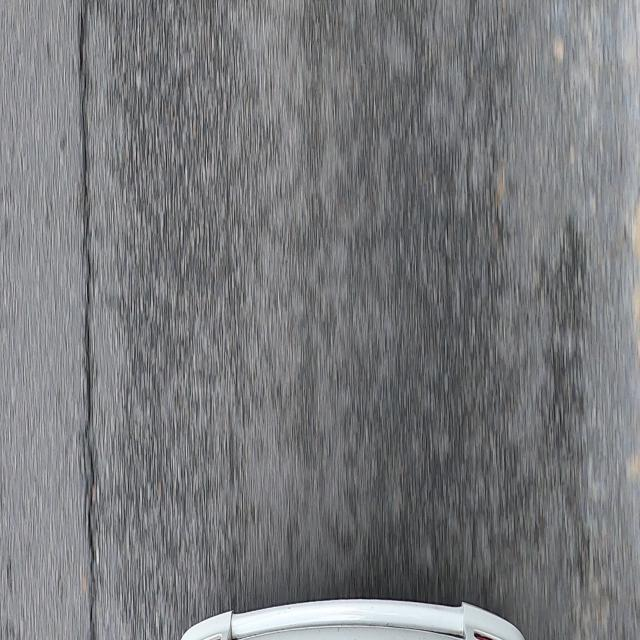Retak-Memanjang: (82, 0, 97, 640)
